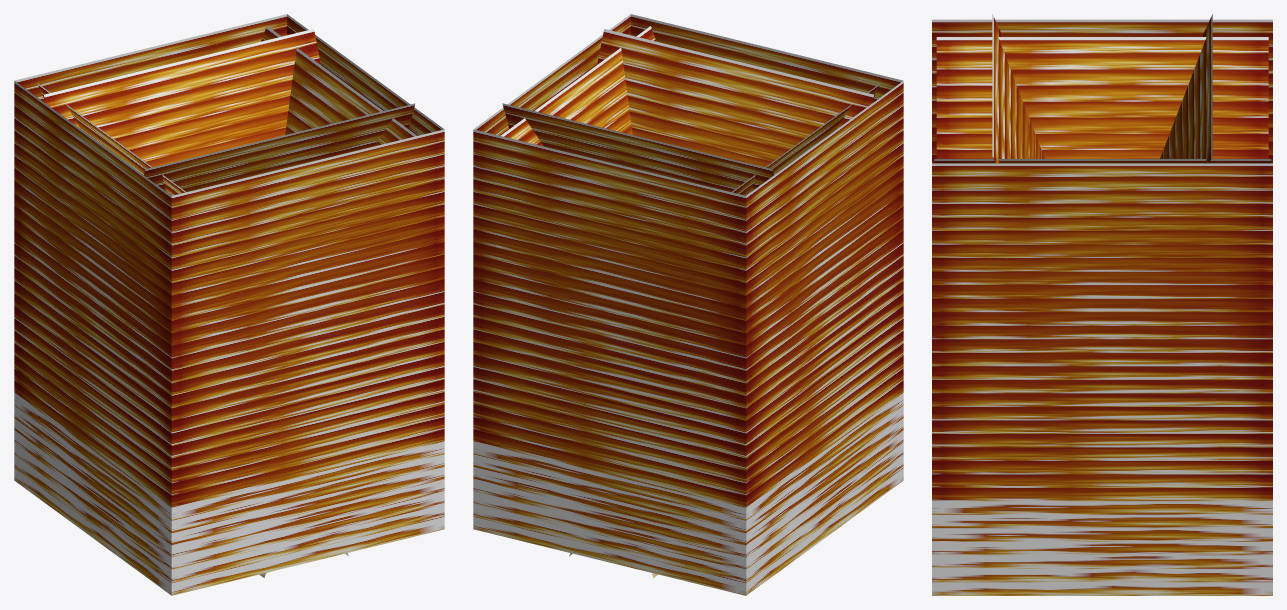
The model's file is fire_model_clipped.obj.
3 views of the same model, side by side, from view 1: azimuth 30°, elevation 25°; view 2: azimuth 150°, elevation 25°; view 3: azimuth 270°, elevation 25° (orthographic). The views are drawn at different scales.
Visible parts, largest first — view 1: fireside1.002, fireside1, firemiddle1, firemiddle2, fireside1.001, firemiddle3, fireside1.003, firemiddle4; view 2: fireside1.001, fireside1, firemiddle2, firemiddle1, fireside1.002, firemiddle3, fireside1.003, firemiddle4; view 3: fireside1.003, firemiddle4, fireside1, firemiddle2, firemiddle1, firemiddle3.
Boxes of the visible parts, x1,y1,x2,y2 form: fireside1.002: [171, 129, 444, 595]; fireside1: [14, 81, 171, 595]; firemiddle1: [44, 29, 320, 167]; firemiddle2: [144, 103, 415, 191]; fireside1.001: [15, 14, 286, 102]; firemiddle3: [259, 26, 417, 577]; fireside1.003: [287, 14, 443, 135]; firemiddle4: [37, 83, 348, 556]; fireside1.001: [473, 129, 746, 595]; fireside1: [746, 81, 903, 595]; firemiddle2: [597, 29, 873, 167]; firemiddle1: [502, 103, 773, 191]; fireside1.002: [631, 14, 902, 102]; firemiddle3: [500, 26, 658, 578]; fireside1.003: [474, 14, 630, 135]; firemiddle4: [569, 83, 880, 556]; fireside1.003: [932, 163, 1272, 595]; firemiddle4: [936, 37, 1268, 158]; fireside1: [932, 19, 1272, 163]; firemiddle2: [992, 14, 1044, 163]; firemiddle1: [1160, 14, 1212, 163]; firemiddle3: [934, 159, 1271, 163].
Bounding box in the file's own units: 1 × 1.44 × 1.
